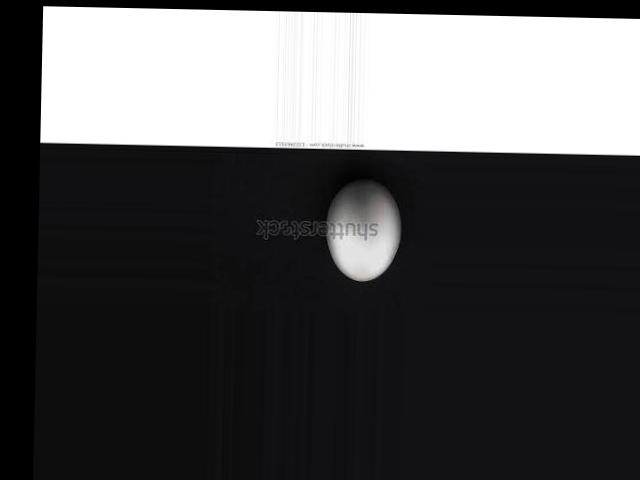egg: (326, 178, 402, 283)
